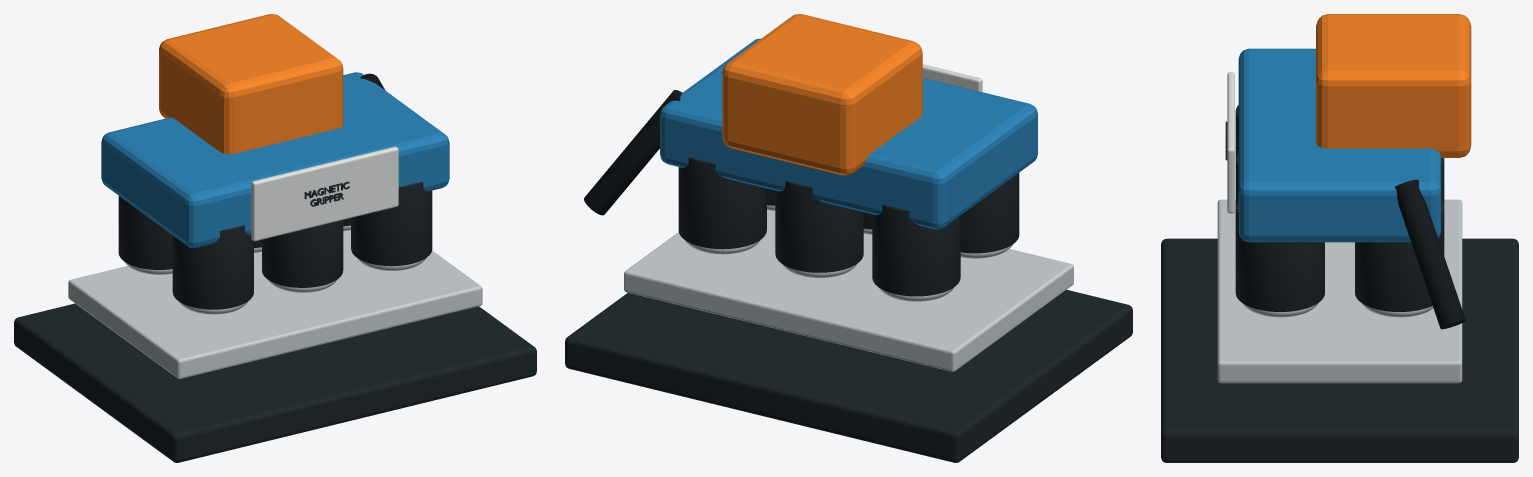
File: electromagnetic_sheet_gripper.glb
3 views of the same model, side by side, from view 1: azimuth 30°, elevation 25°; view 2: azimuth 150°, elevation 25°; view 3: azimuth 270°, elevation 25° (orthographic). The views are drawn at different scales.
Parts seen in each view (by area): view 1: BASE, STEEL_PLATE_LOAD, MAGNET_BACKPLATE, ROBOT_MOUNT, NAMEPLATE, ELECTROMAGNET_-0.38_-0.2, ELECTROMAGNET_0.38_-0.2, ELECTROMAGNET_0_-0.2, ELECTROMAGNET_-0.38_0.2; view 2: BASE, STEEL_PLATE_LOAD, MAGNET_BACKPLATE, ROBOT_MOUNT, ELECTROMAGNET_-0.38_0.2, ELECTROMAGNET_0.38_0.2, ELECTROMAGNET_0_0.2, ELECTROMAGNET_-0.38_-0.2, POWER_CABLE, NAMEPLATE; view 3: BASE, MAGNET_BACKPLATE, STEEL_PLATE_LOAD, ROBOT_MOUNT, ELECTROMAGNET_0.38_-0.2, ELECTROMAGNET_0.38_0.2, POWER_CABLE, NAMEPLATE, MAGNET_FACE_0.38_-0.2, MAGNET_FACE_0.38_0.2.
Boxes of the visible parts, <box> form: BASE: <box>14,303,536,462</box>; STEEL_PLATE_LOAD: <box>68,230,482,378</box>; MAGNET_BACKPLATE: <box>101,72,449,247</box>; ROBOT_MOUNT: <box>159,14,343,154</box>; NAMEPLATE: <box>251,146,398,241</box>; ELECTROMAGNET_-0.38_-0.2: <box>172,225,253,309</box>; ELECTROMAGNET_0.38_-0.2: <box>351,181,432,266</box>; ELECTROMAGNET_0_-0.2: <box>262,220,343,287</box>; ELECTROMAGNET_-0.38_0.2: <box>118,196,172,269</box>; BASE: <box>565,289,1132,462</box>; STEEL_PLATE_LOAD: <box>624,210,1073,371</box>; MAGNET_BACKPLATE: <box>660,38,1037,229</box>; ROBOT_MOUNT: <box>722,14,922,175</box>; ELECTROMAGNET_-0.38_0.2: <box>872,204,960,296</box>; ELECTROMAGNET_0.38_0.2: <box>678,157,766,249</box>; ELECTROMAGNET_0_0.2: <box>775,181,863,272</box>; ELECTROMAGNET_-0.38_-0.2: <box>960,173,1019,253</box>; POWER_CABLE: <box>584,90,682,215</box>; NAMEPLATE: <box>922,64,982,92</box>; BASE: <box>1161,238,1518,462</box>; MAGNET_BACKPLATE: <box>1238,48,1441,242</box>; STEEL_PLATE_LOAD: <box>1217,199,1462,383</box>; ROBOT_MOUNT: <box>1316,14,1471,157</box>; ELECTROMAGNET_0.38_-0.2: <box>1235,201,1324,311</box>; ELECTROMAGNET_0.38_0.2: <box>1355,201,1444,311</box>; POWER_CABLE: <box>1395,179,1465,329</box>; NAMEPLATE: <box>1227,72,1234,213</box>; MAGNET_FACE_0.38_-0.2: <box>1242,303,1318,317</box>; MAGNET_FACE_0.38_0.2: <box>1361,303,1433,317</box>.
Size of the model in its own units: 1.59 by 1.2 by 1.2.
